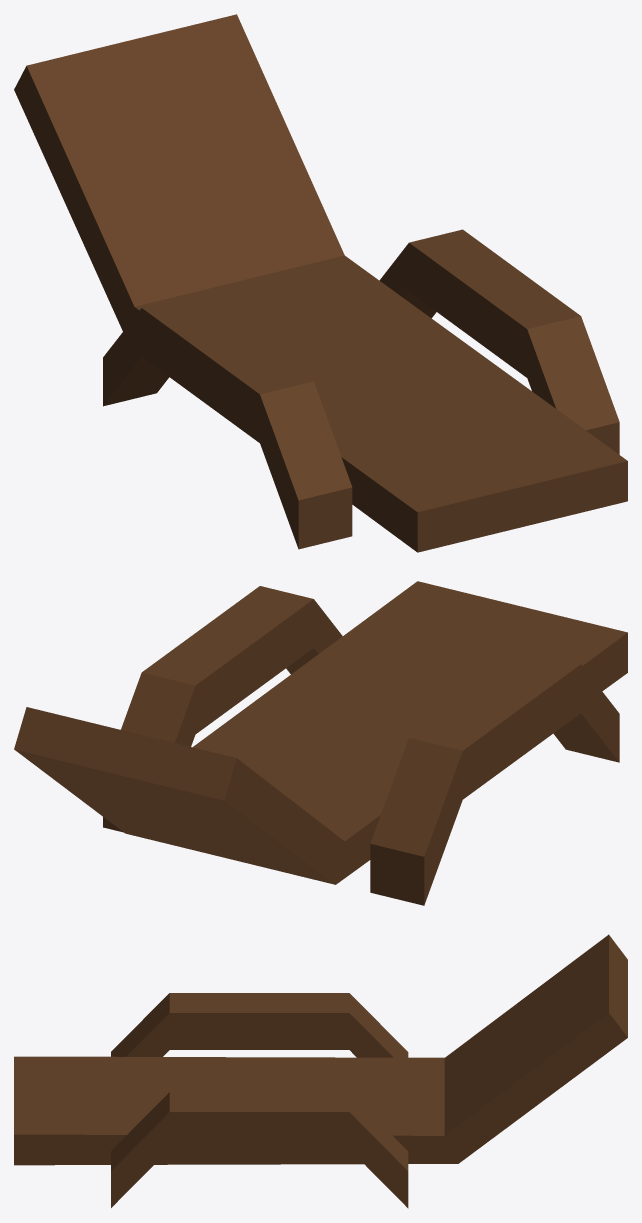
The model's file is beach_lounge_chair.fbx.
3 renders of one model, top to bottom at view 1: azimuth 30°, elevation 25°; view 2: azimuth 150°, elevation 25°; view 3: azimuth 270°, elevation 25°, orthographic. The views are drawn at different scales.
Parts seen in each view (by area): view 1: Cube.002; view 2: Cube.002; view 3: Cube.002.
Part boxes in pixels (bbox=[...]): Cube.002: bbox=[14, 14, 627, 552]; Cube.002: bbox=[14, 581, 627, 905]; Cube.002: bbox=[14, 934, 627, 1208].
Bounding box in the file's own units: 481 × 330 × 1046.
